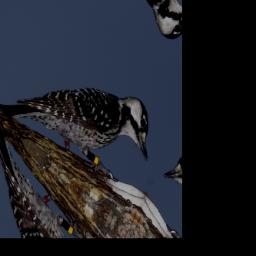Woodpecker: (0, 3, 164, 226)
